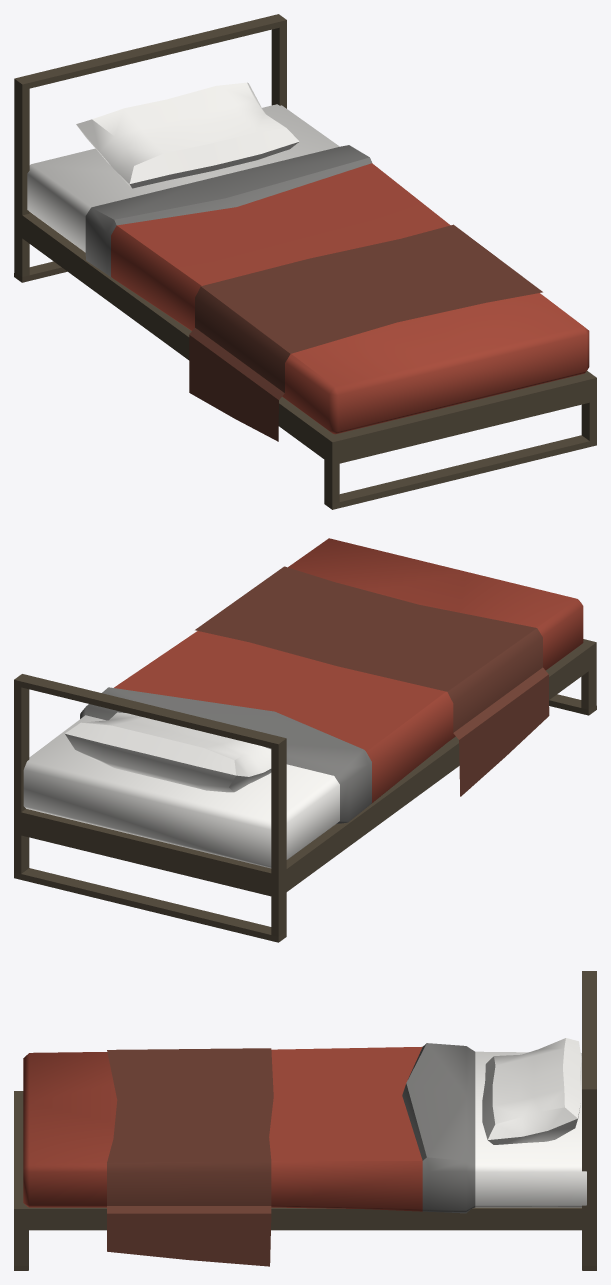
Rendered from bed.glb.
3 renders of one model, top to bottom at view 1: azimuth 30°, elevation 25°; view 2: azimuth 150°, elevation 25°; view 3: azimuth 270°, elevation 25°, orthographic. The views are drawn at different scales.
Parts seen in each view (by area): view 1: Bed_Single; view 2: Bed_Single; view 3: Bed_Single.
Boxes of the visible parts, x1,y1,x2,y2 form: Bed_Single: [14, 14, 596, 509]; Bed_Single: [14, 538, 596, 942]; Bed_Single: [14, 971, 596, 1270].
Size of the model in its own units: 1.98 by 1.35 by 3.94.
